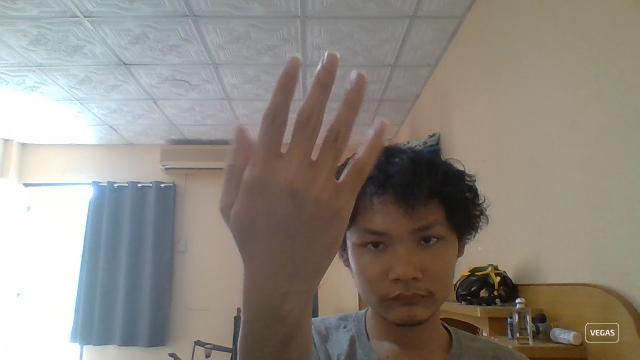backword: (218, 49, 388, 299)
